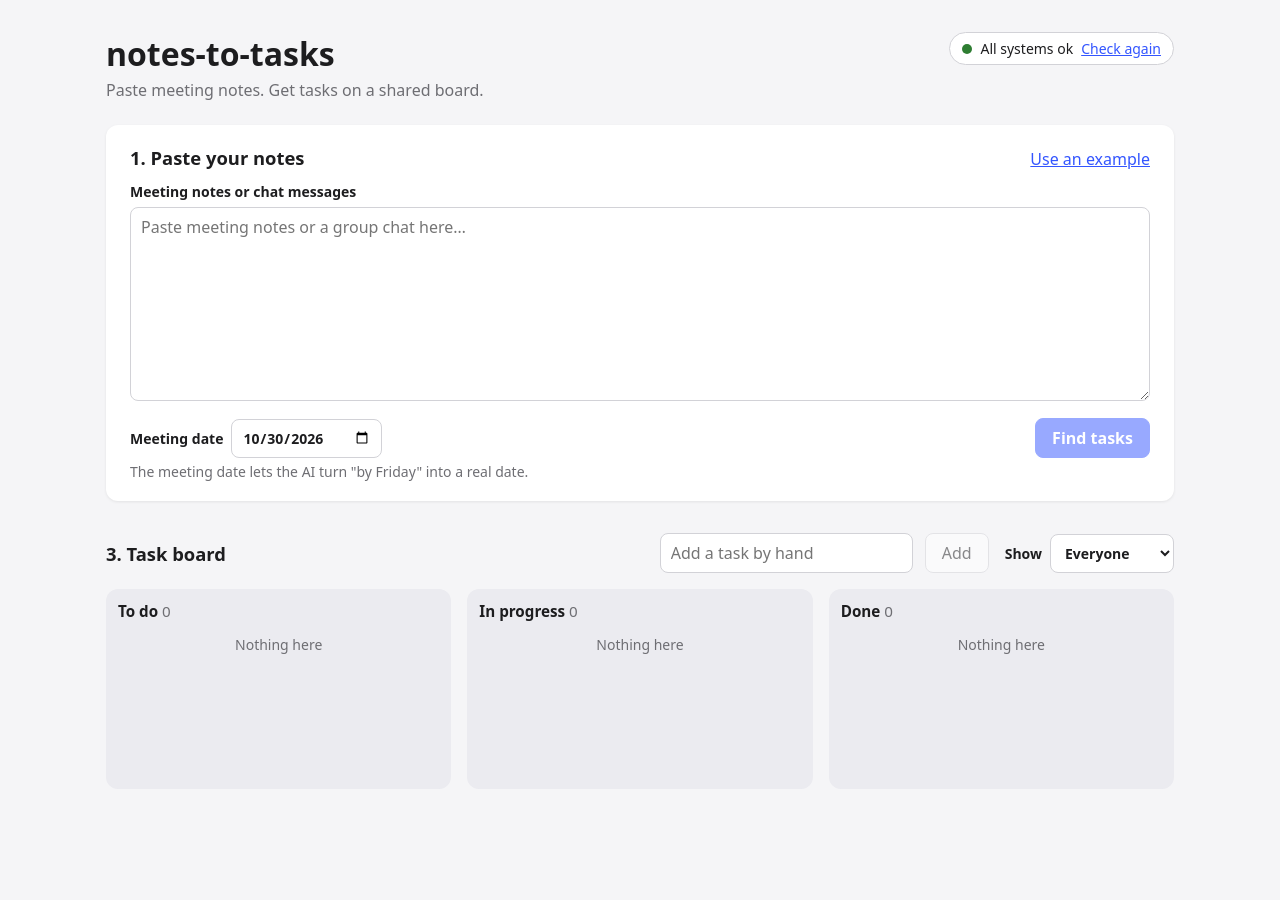
Scenario: App › goes from pasted notes to tasks on the board
// Paste notes and ask for tasks.
In the text box labelled "Meeting notes or chat messages": (640, 304) [130,207,1150,401], type "Ada sends the budget"
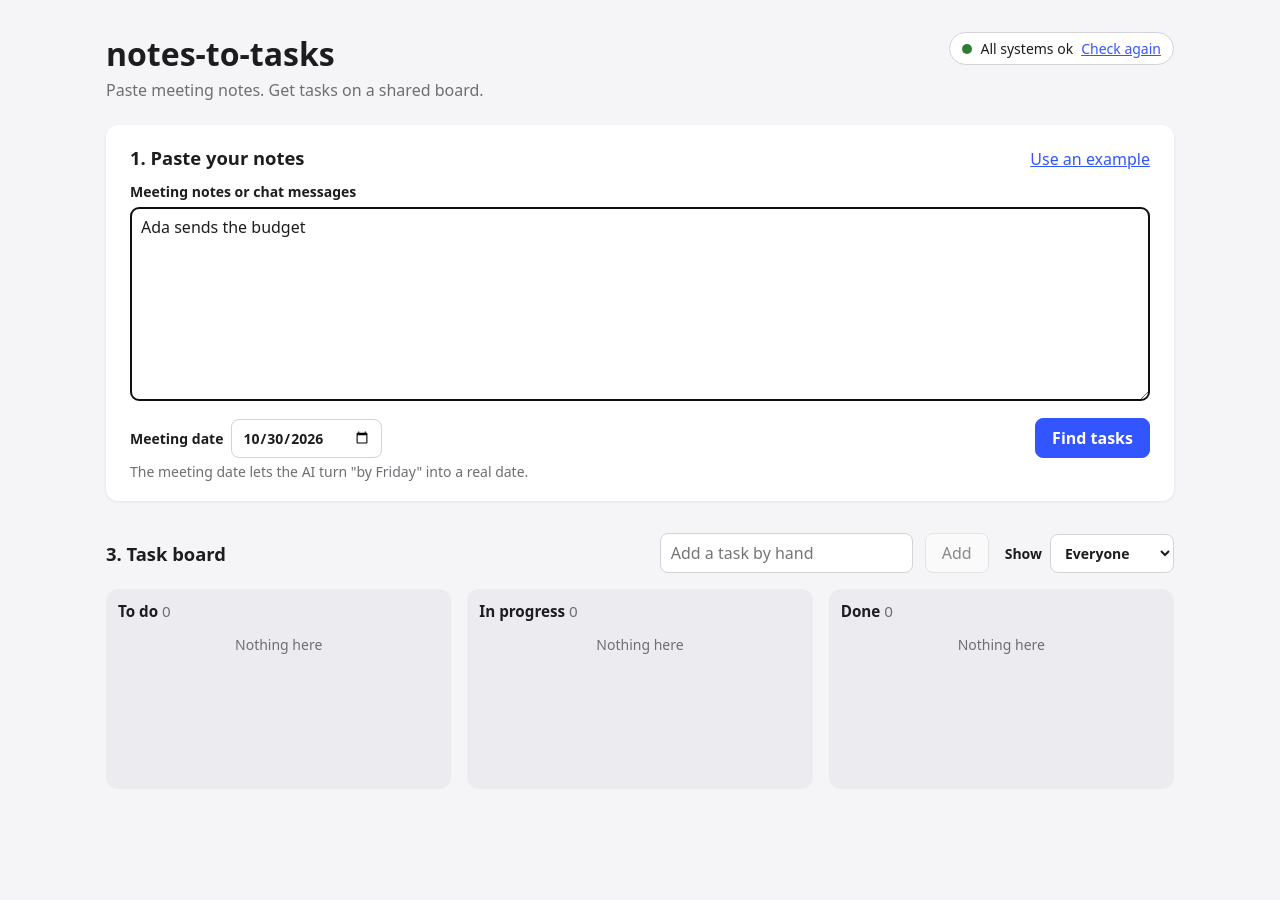
Click the button "Find tasks": (1093, 438) [1035,418,1150,458]
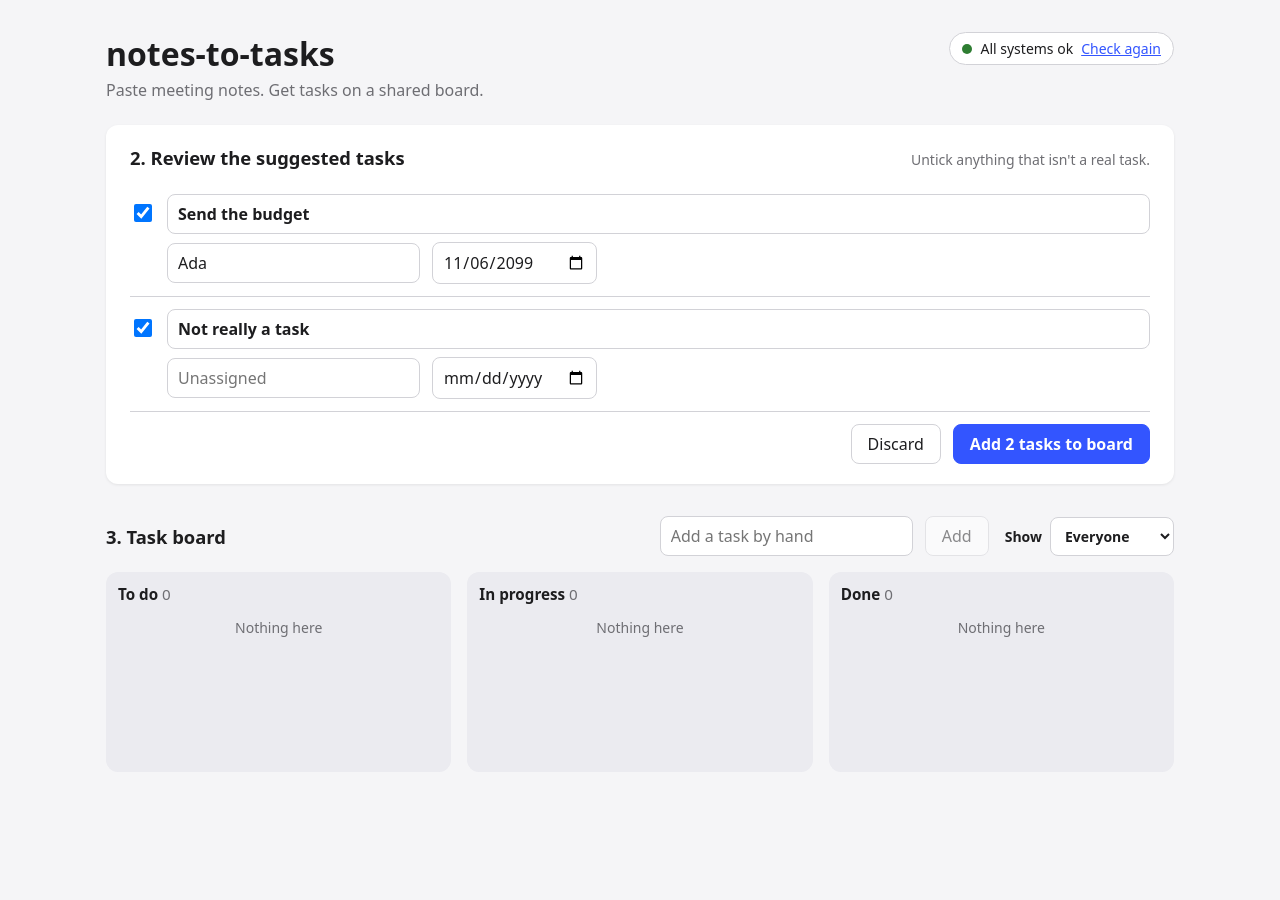
// Untick the second suggestion, then approve.
Click the checkbox named "Keep \"Not really a task\"": (143, 328) [134,319,152,337]
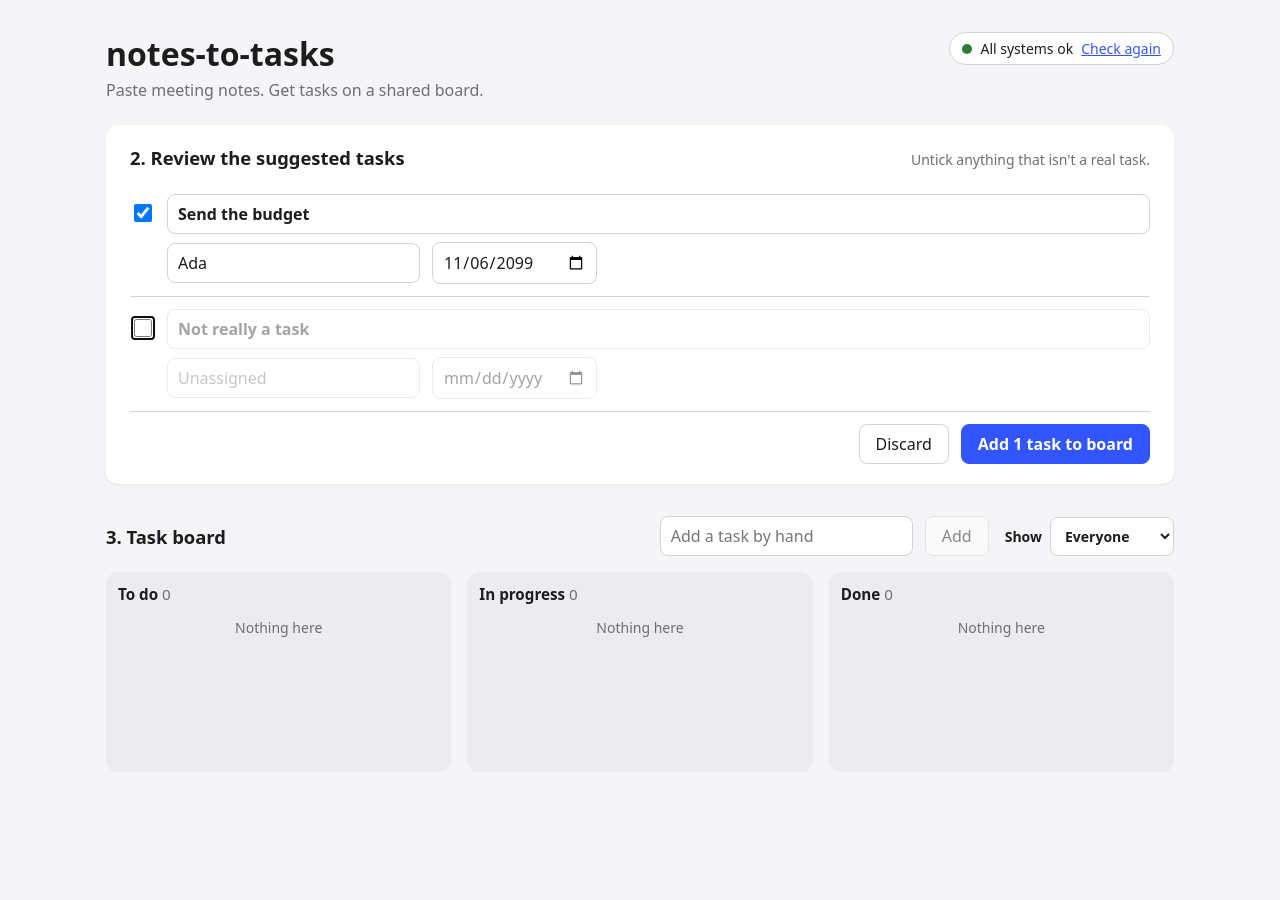
Click the button "Add 1 task to board": (1055, 444) [961,424,1150,464]
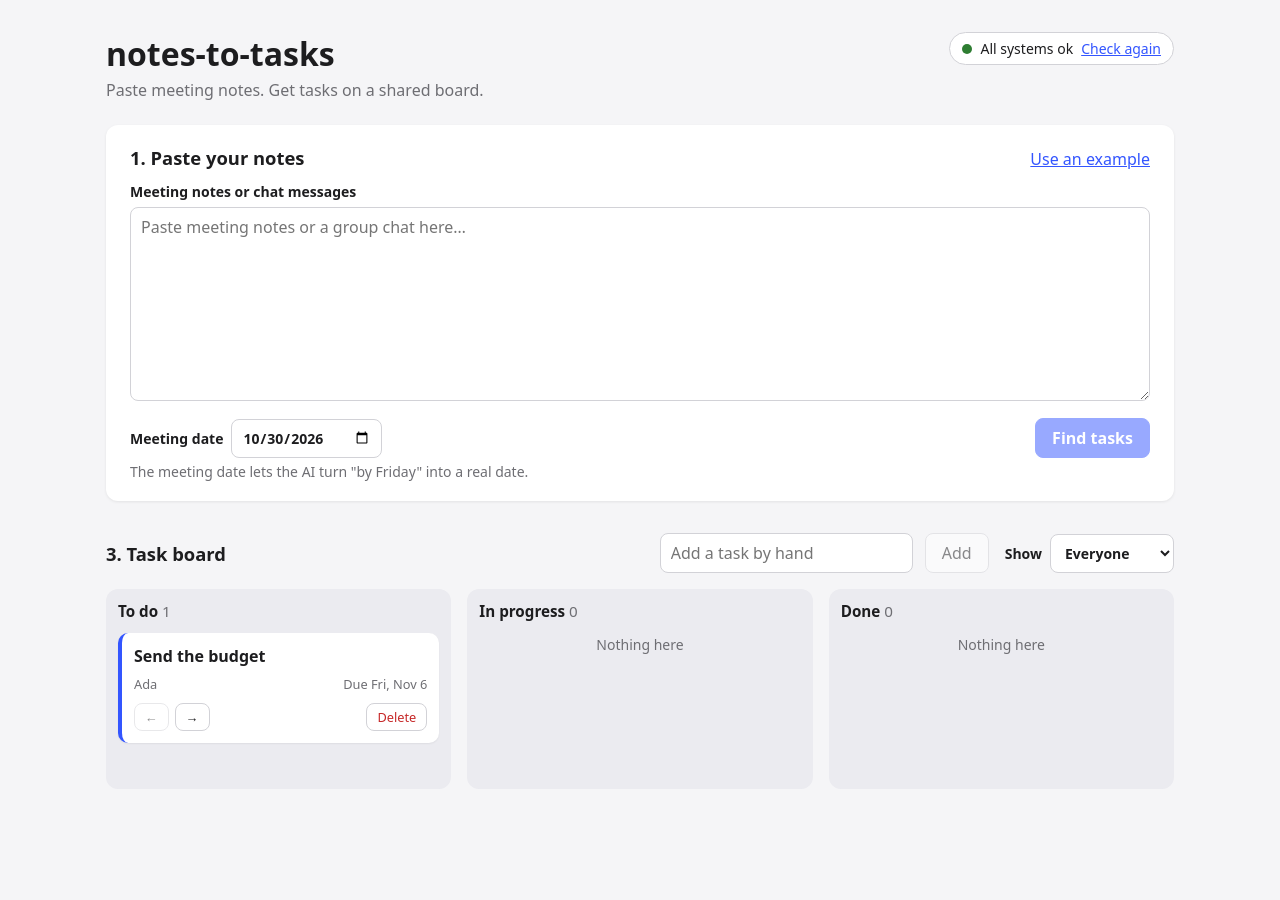
expect the text "Send the budget" is shown: met, box [134,645,266,667]
expect the text "Ada" is shown: met, box [134,675,157,693]
expect the button "Find tasks" is shown: met, box [1035,418,1150,458]
